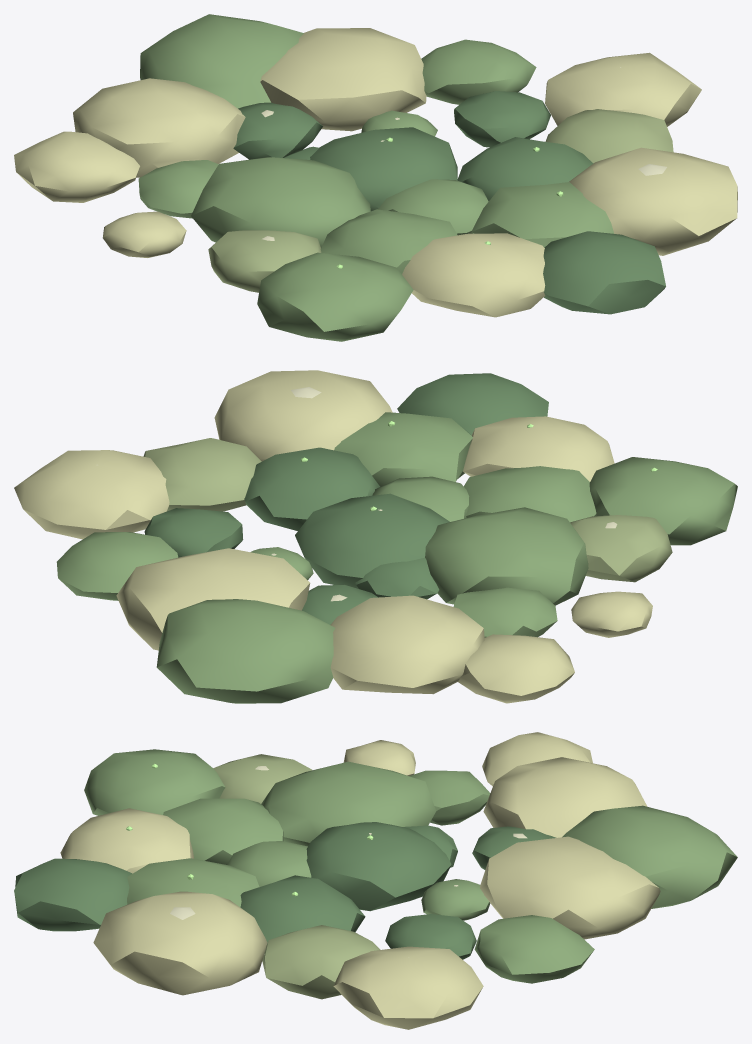
Rendered from mold_bloom.glb.
3 views of the same model, one above another, from view 1: azimuth 30°, elevation 25°; view 2: azimuth 150°, elevation 25°; view 3: azimuth 270°, elevation 25° (orthographic). The views are drawn at different scales.
Parts seen in each view (by area): view 1: mold_bloom; view 2: mold_bloom; view 3: mold_bloom.
Part boxes in pixels (x1,y1,x2,y2): mold_bloom: (14,14,737,341); mold_bloom: (14,370,737,703); mold_bloom: (14,732,737,1029).
Size of the model in its own units: 8.56 by 1.07 by 9.43.
